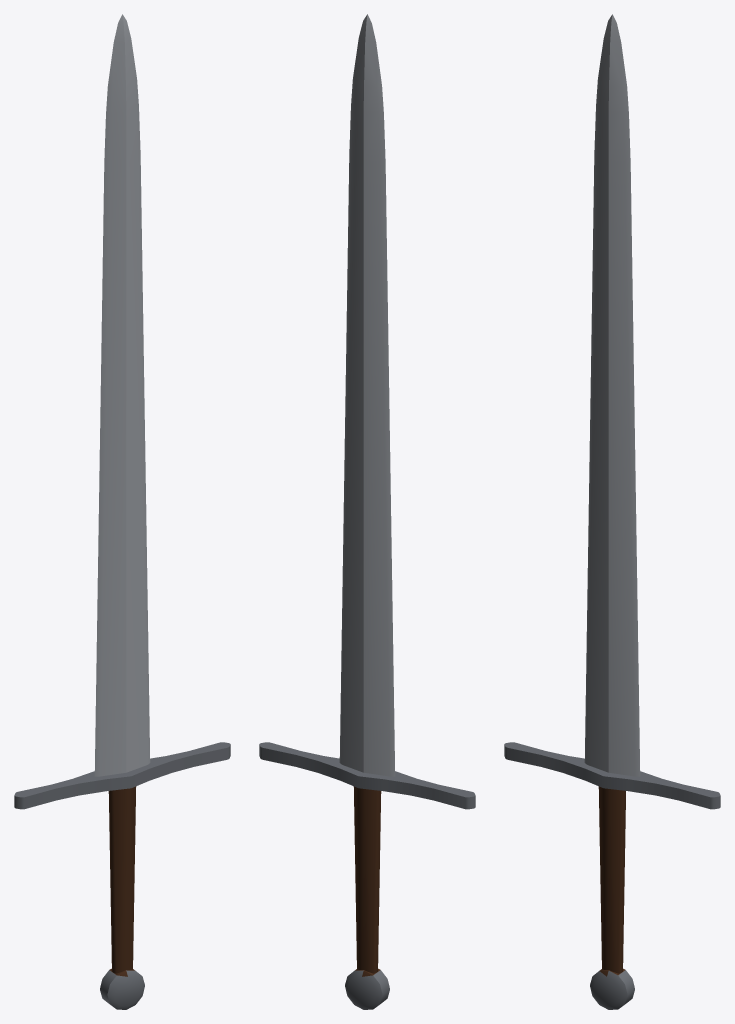
Rendered from mec_obourucni.glb.
The picture shows the model from 3 angles, left to right: view 1: azimuth 30°, elevation 25°; view 2: azimuth 150°, elevation 25°; view 3: azimuth 330°, elevation 25°; orthographic projection.
Parts seen in each view (by area): view 1: mec_obourucni; view 2: mec_obourucni; view 3: mec_obourucni.
Boxes of the visible parts, bbox=[...] form: mec_obourucni: bbox=[14, 14, 230, 1009]; mec_obourucni: bbox=[259, 14, 475, 1009]; mec_obourucni: bbox=[504, 14, 720, 1009].
Size of the model in its own units: 0.3635 by 1.61 by 0.0521.
